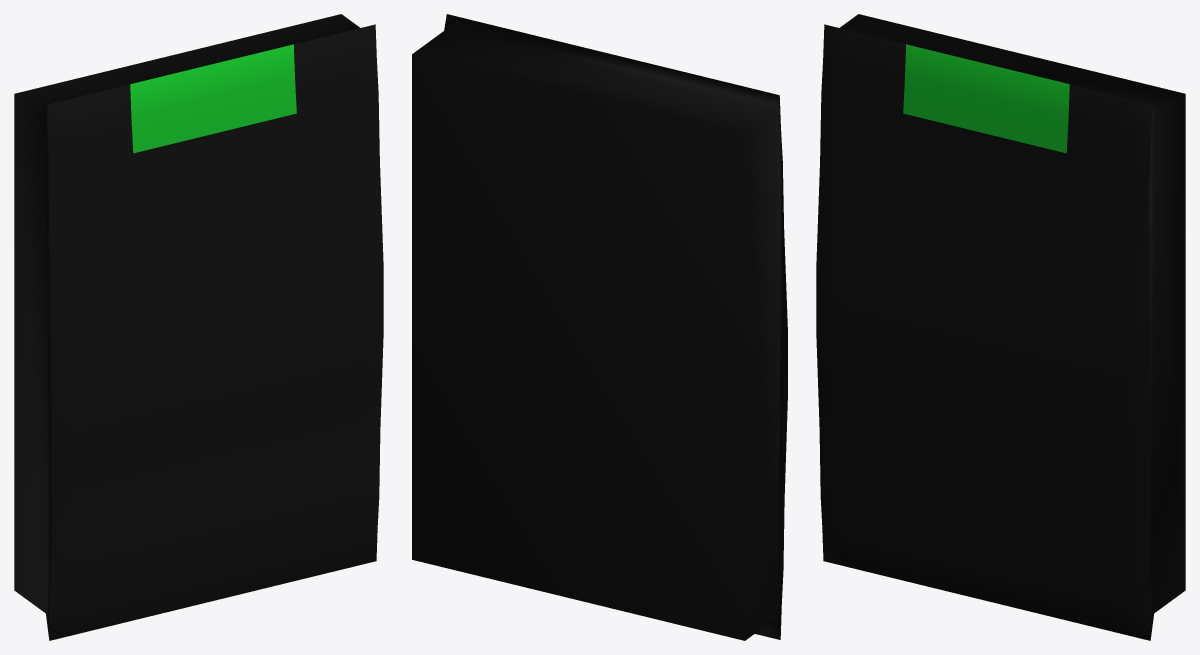
The model's file is sensor.gltf.
3 views of the same model, side by side, from view 1: azimuth 30°, elevation 25°; view 2: azimuth 150°, elevation 25°; view 3: azimuth 330°, elevation 25° (orthographic).
Visible parts, largest first — view 1: Cube.001; view 2: Cube.001; view 3: Cube.001.
Part boxes in pixels (left/top/right/bottom): Cube.001: left=14, top=14, right=383, bottom=640; Cube.001: left=412, top=14, right=787, bottom=640; Cube.001: left=816, top=14, right=1185, bottom=640.
Size of the model in its own units: 0.076 by 0.119 by 0.017.
